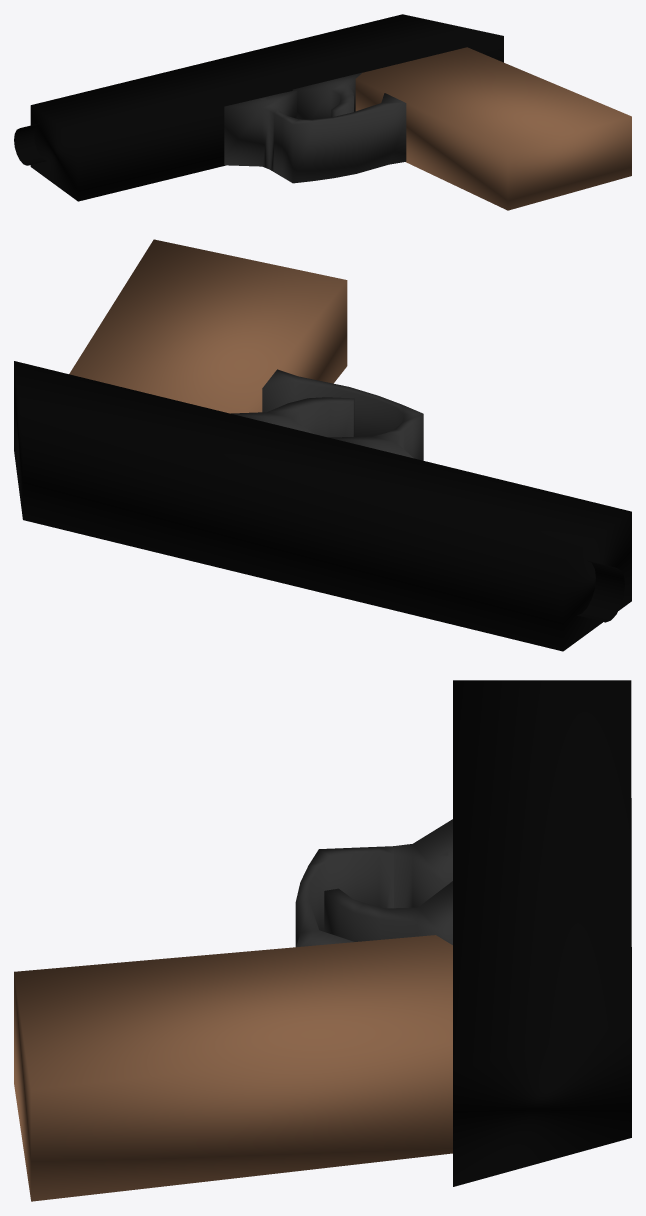
The model's file is pistol2.fbx.
The picture shows the model from 3 angles, top to bottom: view 1: azimuth 30°, elevation 25°; view 2: azimuth 150°, elevation 25°; view 3: azimuth 270°, elevation 25°; orthographic projection. The views are drawn at different scales.
Visible parts, largest first — view 1: TOpGun, Handle, Connector, Trigger, Barrel; view 2: TOpGun, Handle, Connector, Trigger, Barrel; view 3: Handle, TOpGun, Connector, Trigger.
Boxes of the visible parts, bbox=[...] form: TOpGun: bbox=[30, 14, 503, 201]; Handle: bbox=[355, 47, 631, 210]; Connector: bbox=[224, 90, 406, 183]; Trigger: bbox=[292, 72, 361, 119]; Barrel: bbox=[14, 123, 46, 165]; TOpGun: bbox=[14, 361, 631, 651]; Handle: bbox=[69, 239, 347, 413]; Connector: bbox=[262, 369, 423, 460]; Trigger: bbox=[231, 397, 354, 437]; Barrel: bbox=[577, 561, 624, 622]; Handle: bbox=[14, 935, 452, 1201]; TOpGun: bbox=[453, 680, 631, 1186]; Connector: bbox=[295, 819, 452, 947]; Trigger: bbox=[324, 881, 452, 944].
Bounding box in the file's own units: 499 × 63.79 × 308.
